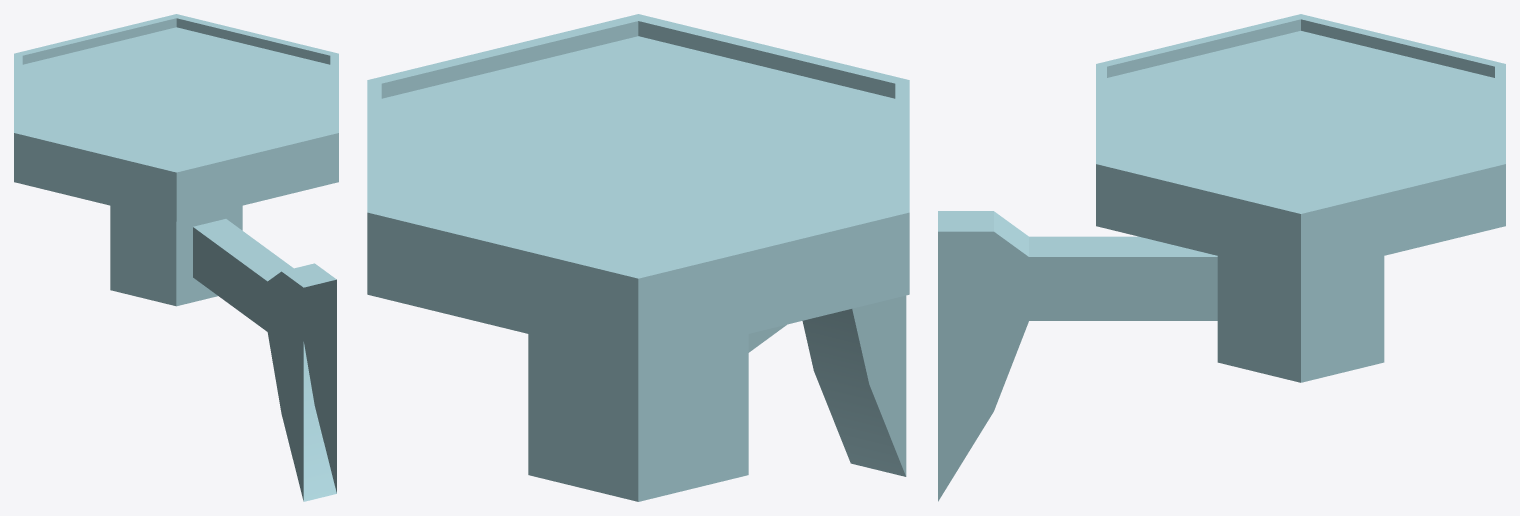
Rendered from Soporte_De_Vela_002.fbx.
3 views of the same model, side by side, from view 1: azimuth 30°, elevation 25°; view 2: azimuth 150°, elevation 25°; view 3: azimuth 270°, elevation 25° (orthographic). The views are drawn at different scales.
Visible parts, largest first — view 1: Vela_Pared; view 2: Vela_Pared; view 3: Vela_Pared.
Part boxes in pixels (left/top/right/bottom): Vela_Pared: left=14, top=14, right=338, bottom=501; Vela_Pared: left=367, top=14, right=909, bottom=501; Vela_Pared: left=938, top=14, right=1505, bottom=501.
Bounding box in the file's own units: 0.00587 × 0.00517 × 0.00704.
